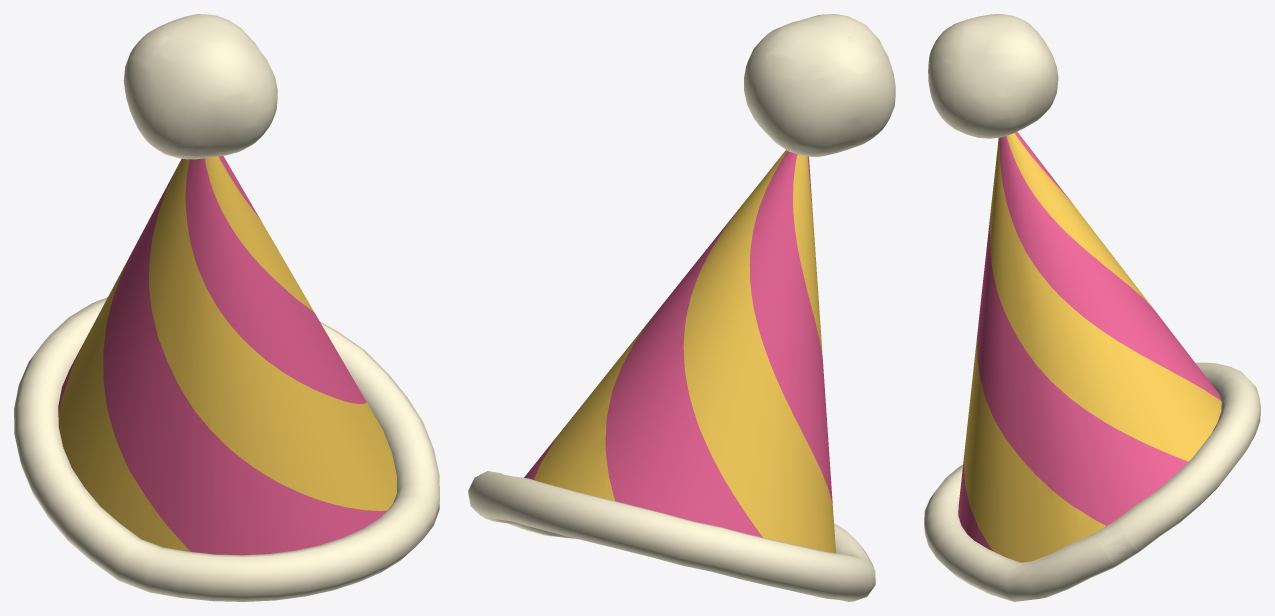
The model's file is party_hat.glb.
3 views of the same model, side by side, from view 1: azimuth 30°, elevation 25°; view 2: azimuth 150°, elevation 25°; view 3: azimuth 270°, elevation 25° (orthographic). The views are drawn at different scales.
Parts seen in each view (by area): view 1: cone, trim, pompom; view 2: cone, trim, pompom; view 3: cone, trim, pompom.
Boxes of the visible parts, x1,y1,x2,y2 form: cone: [58, 156, 396, 555]; trim: [14, 297, 439, 601]; pompom: [123, 14, 277, 159]; cone: [524, 150, 835, 552]; trim: [468, 471, 875, 601]; pompom: [744, 14, 895, 156]; cone: [958, 132, 1221, 562]; trim: [924, 362, 1260, 601]; pompom: [928, 14, 1058, 138].
Bounding box in the file's own units: 0.1549 × 0.2248 × 0.1424.
